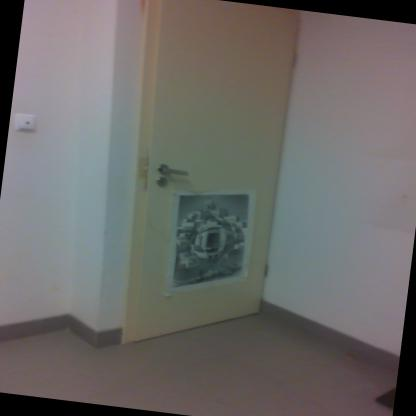closed: (93, 0, 319, 347)
